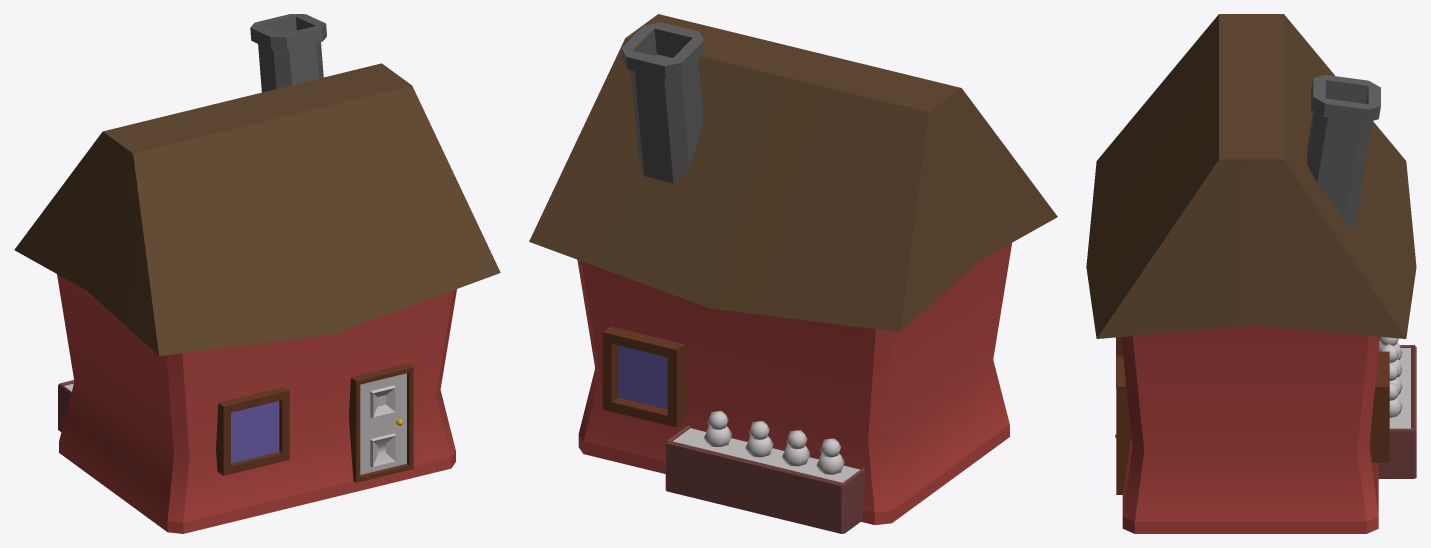
The model's file is Red_House.fbx.
3 views of the same model, side by side, from view 1: azimuth 30°, elevation 25°; view 2: azimuth 150°, elevation 25°; view 3: azimuth 270°, elevation 25° (orthographic). The views are drawn at different scales.
Parts seen in each view (by area): view 1: Red_House; view 2: Red_House; view 3: Red_House.
Part boxes in pixels (x1=…): Red_House: x1=14, y1=14, x2=500, y2=533; Red_House: x1=529, y1=14, x2=1057, y2=533; Red_House: x1=1086, y1=14, x2=1416, y2=533.
Bounding box in the file's own units: 146 × 158 × 115.
